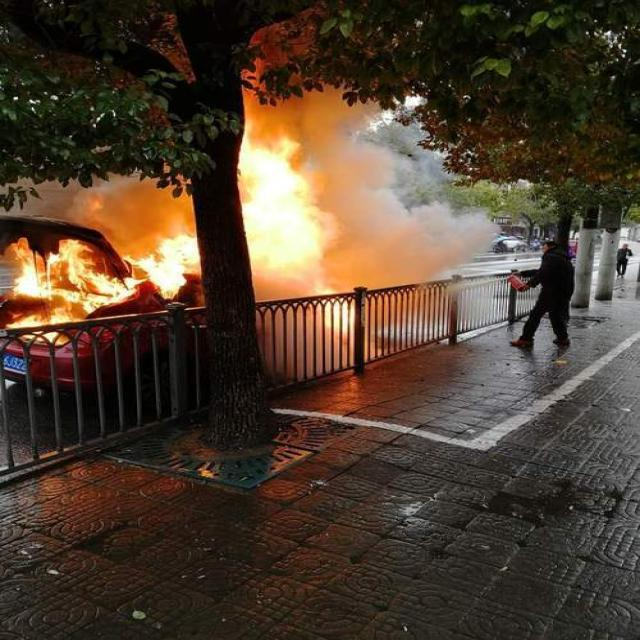Fire: (0, 234, 123, 334), (237, 136, 322, 274), (124, 232, 200, 298)
Smoke: (323, 82, 497, 286), (64, 170, 198, 228)
